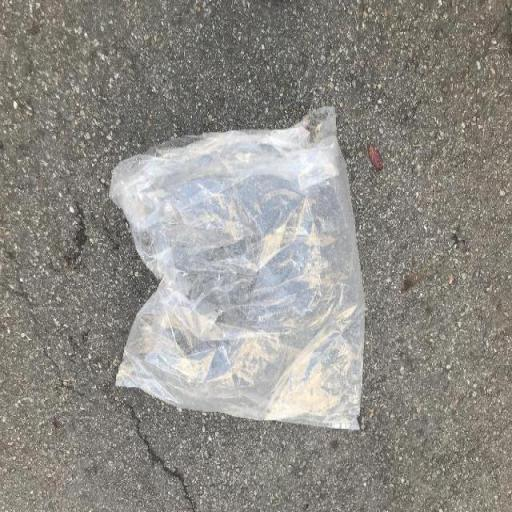plastic-bag: (109, 103, 368, 439)
